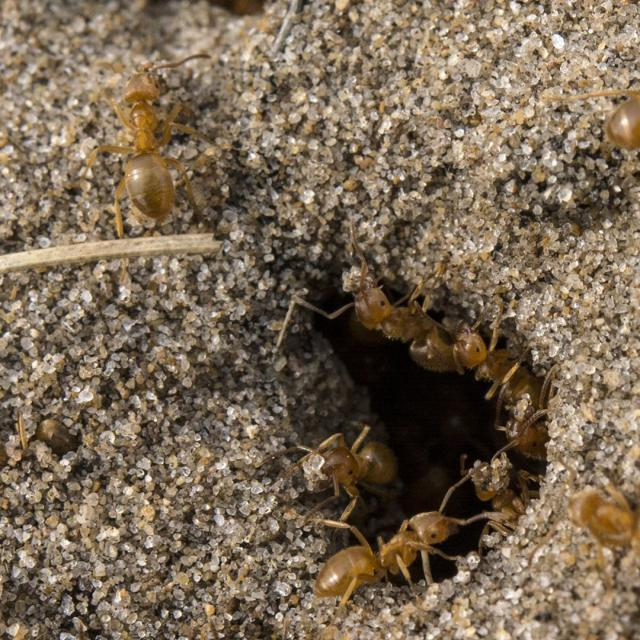Lasius: (78, 37, 228, 251), (334, 253, 476, 401), (324, 488, 486, 610), (446, 314, 578, 450), (542, 452, 640, 580), (304, 415, 412, 511)
